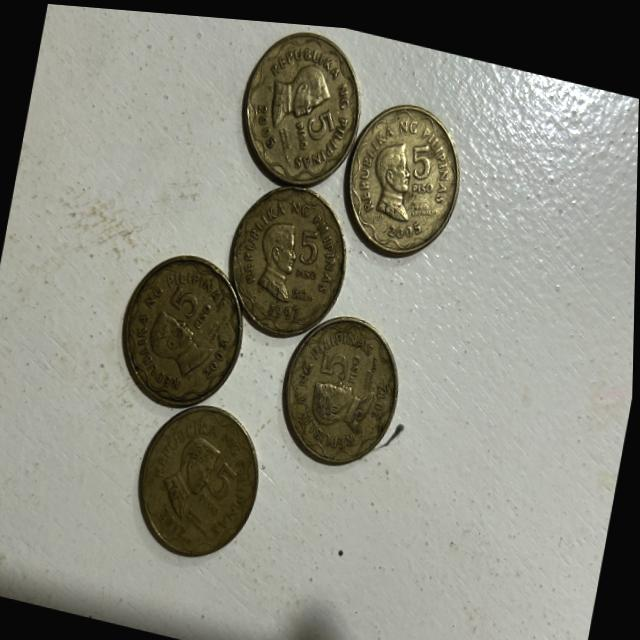5_Old_Front: (198, 441, 255, 529), (287, 92, 342, 158), (292, 217, 333, 286), (405, 129, 445, 198), (162, 278, 214, 327), (318, 337, 369, 381)
